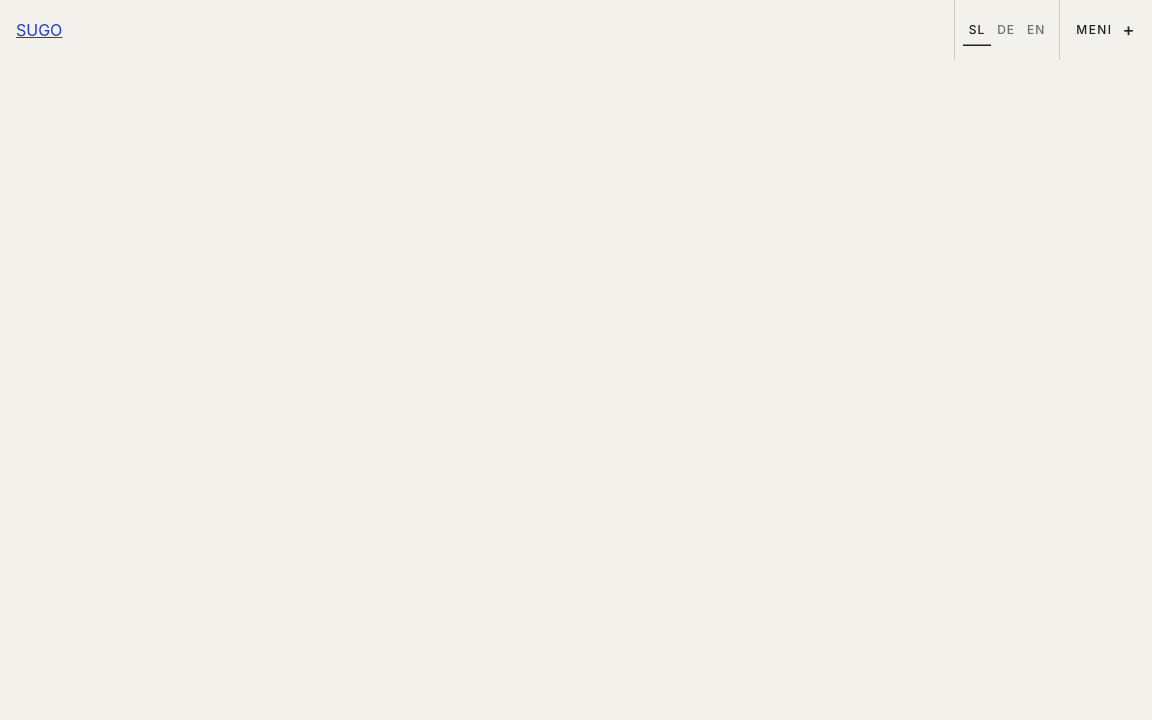
it: opens the sheet menu from the menu button
What coordinates should you click on to do the following:
click the button "Meni +"
I would click on:
 (1106, 30)
Its box is [1059,0,1151,60].
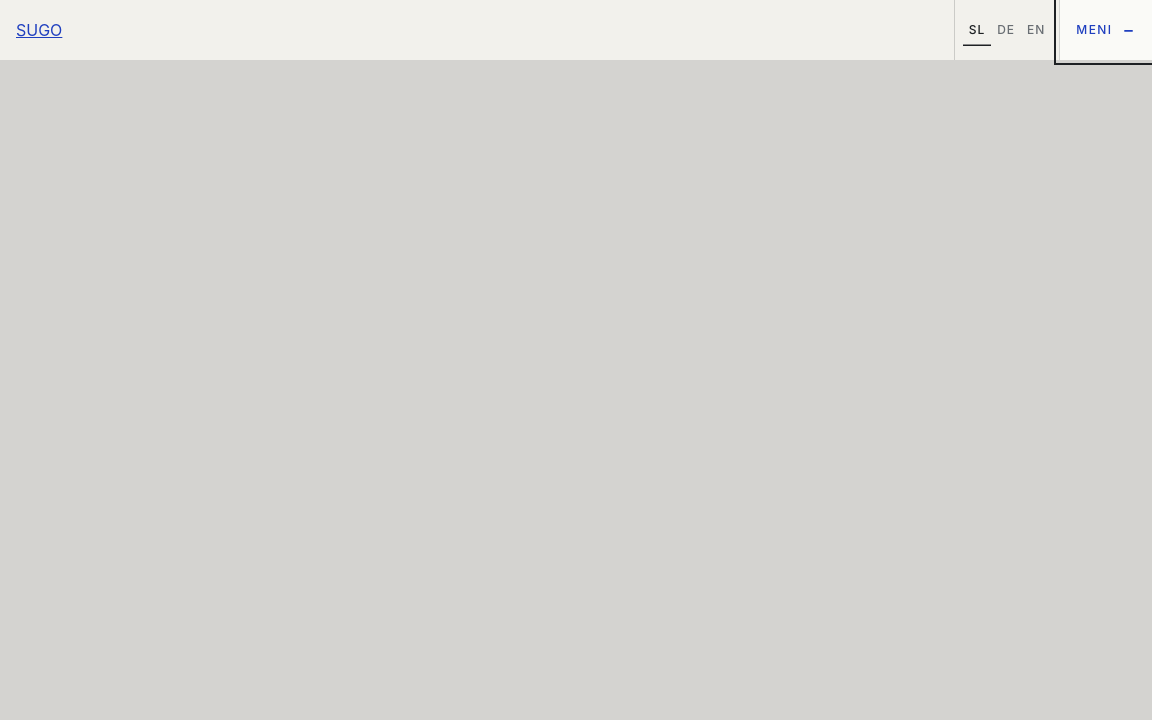
Check: the button "Meni −" is expanded, box [1059,0,1151,60]
